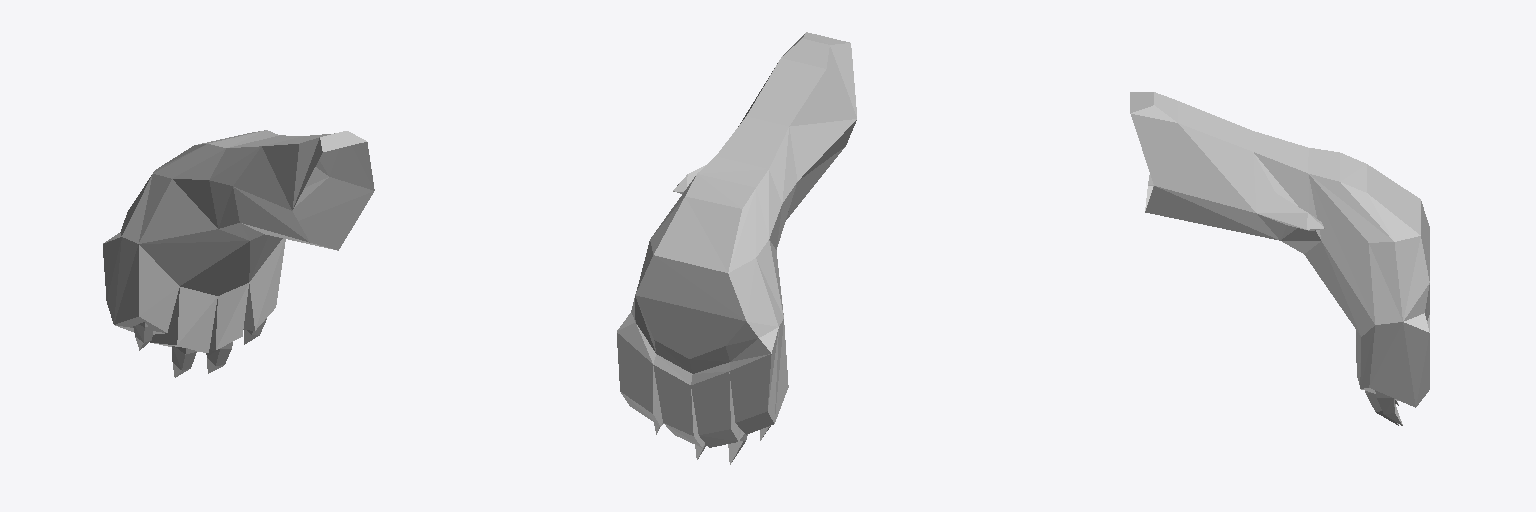
The model's file is patte_av_d_3.obj.
3 views of the same model, side by side, from view 1: azimuth 30°, elevation 25°; view 2: azimuth 150°, elevation 25°; view 3: azimuth 270°, elevation 25° (orthographic).
Parts seen in each view (by area): view 1: patte_av_d_3_Wolf.020; view 2: patte_av_d_3_Wolf.020; view 3: patte_av_d_3_Wolf.020.
Boxes of the visible parts, box(x1,y1,x2,y2) form: patte_av_d_3_Wolf.020: box(103, 130, 374, 377); patte_av_d_3_Wolf.020: box(617, 32, 856, 464); patte_av_d_3_Wolf.020: box(1130, 92, 1429, 425).
Size of the model in its own units: 8.54 by 17.12 by 14.12.